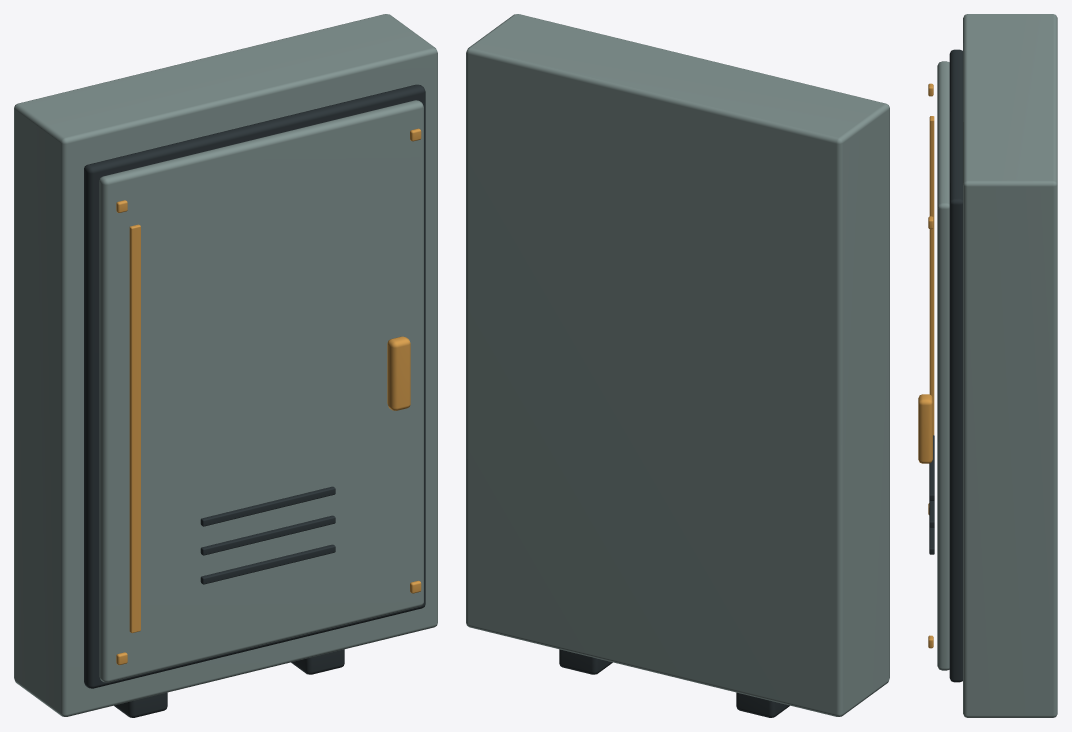
Rendered from ServiceJunction.fbx.
3 views of the same model, side by side, from view 1: azimuth 30°, elevation 25°; view 2: azimuth 150°, elevation 25°; view 3: azimuth 270°, elevation 25° (orthographic). The views are drawn at different scales.
Visible parts, largest first — view 1: HOSTFALL_ServiceJunction; view 2: HOSTFALL_ServiceJunction; view 3: HOSTFALL_ServiceJunction.
Boxes of the visible parts, <box> form: HOSTFALL_ServiceJunction: <box>14,14,437,717</box>; HOSTFALL_ServiceJunction: <box>466,14,889,717</box>; HOSTFALL_ServiceJunction: <box>918,14,1057,717</box>.
Bounding box in the file's own units: 68 × 105 × 23.55.
